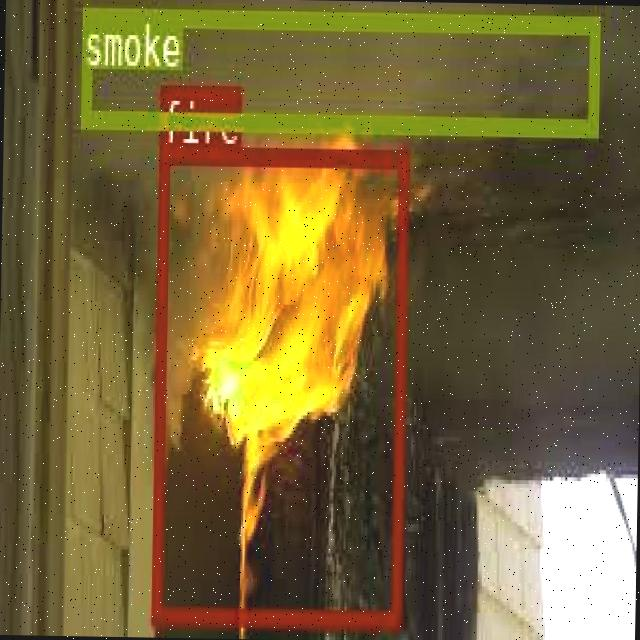fire: (150, 142, 408, 624)
smoke: (79, 7, 596, 131)
